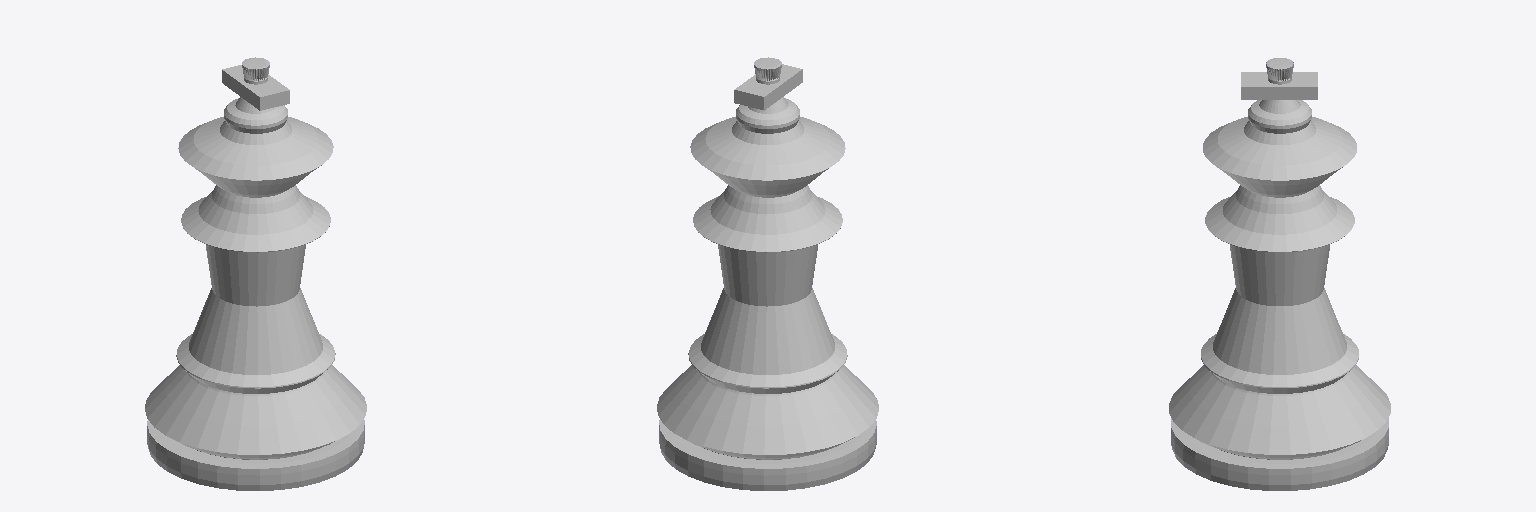
File: kinglow.obj
The picture shows the model from 3 angles: view 1: azimuth 30°, elevation 25°; view 2: azimuth 150°, elevation 25°; view 3: azimuth 270°, elevation 25°; orthographic projection.
Visible parts, largest first — view 1: Cylinder, Cube; view 2: Cylinder, Cube; view 3: Cylinder, Cube.
Part boxes in pixels (left/top/right/bottom): Cylinder: left=145, top=57, right=366, bottom=490; Cube: left=222, top=65, right=289, bottom=110; Cylinder: left=657, top=57, right=878, bottom=490; Cube: left=734, top=64, right=802, bottom=110; Cylinder: left=1169, top=58, right=1390, bottom=490; Cube: left=1241, top=72, right=1317, bottom=99.
Bounding box in the file's own units: 2.01 × 3.86 × 2.01.